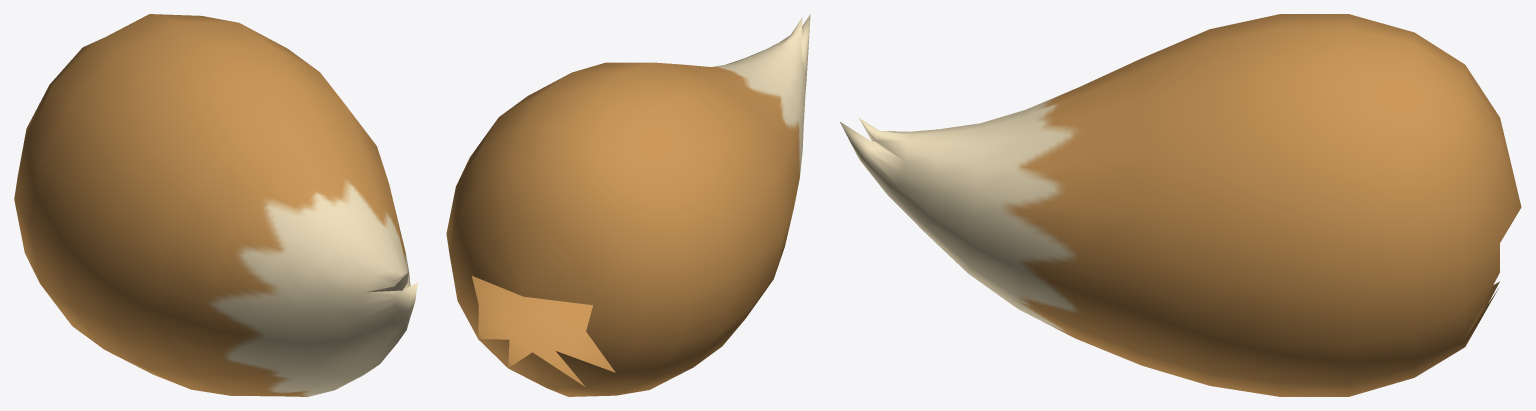
The model's file is colaEevee.obj.
The picture shows the model from 3 angles, left to right: view 1: azimuth 30°, elevation 25°; view 2: azimuth 150°, elevation 25°; view 3: azimuth 270°, elevation 25°; orthographic projection. The views are drawn at different scales.
Parts seen in each view (by area): view 1: Tail2, Tail1, Tail3; view 2: Tail1, Tail2, Tail3; view 3: Tail1, Tail2, Tail3.
Part boxes in pixels (x1,y1,x2,y2): Tail2: [102, 83, 408, 396]; Tail1: [14, 14, 345, 388]; Tail3: [208, 177, 417, 395]; Tail1: [446, 62, 783, 396]; Tail2: [655, 62, 802, 277]; Tail3: [713, 14, 810, 149]; Tail1: [1210, 14, 1521, 396]; Tail2: [1019, 29, 1209, 385]; Tail3: [839, 88, 1079, 326].
Bounding box in the file's own units: 12.69 × 13.22 × 23.2.
